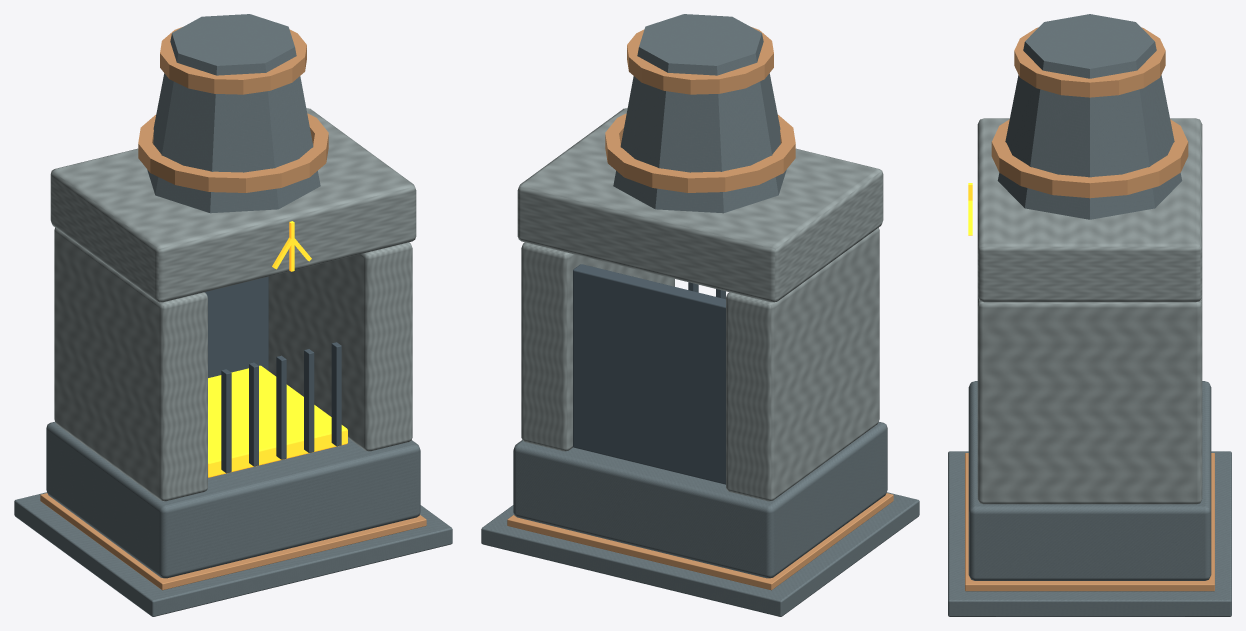
File: dwarven-runeforge-dungeon-dwarven-runeforge-dungeon-fu-eca7efaa__28594.glb
3 renders of one model, left to right at view 1: azimuth 30°, elevation 25°; view 2: azimuth 150°, elevation 25°; view 3: azimuth 270°, elevation 25°, orthographic. The views are drawn at different scales.
Parts seen in each view (by area): view 1: dwarven-runeforge-dungeon-furnace; view 2: dwarven-runeforge-dungeon-furnace; view 3: dwarven-runeforge-dungeon-furnace.
Part boxes in pixels (x1,y1,x2,y2): dwarven-runeforge-dungeon-furnace: (14,14,452,616); dwarven-runeforge-dungeon-furnace: (481,14,919,616); dwarven-runeforge-dungeon-furnace: (948,14,1231,616).
Size of the model in its own units: 3 by 4.68 by 2.4.
5 materials, 2 textured.
